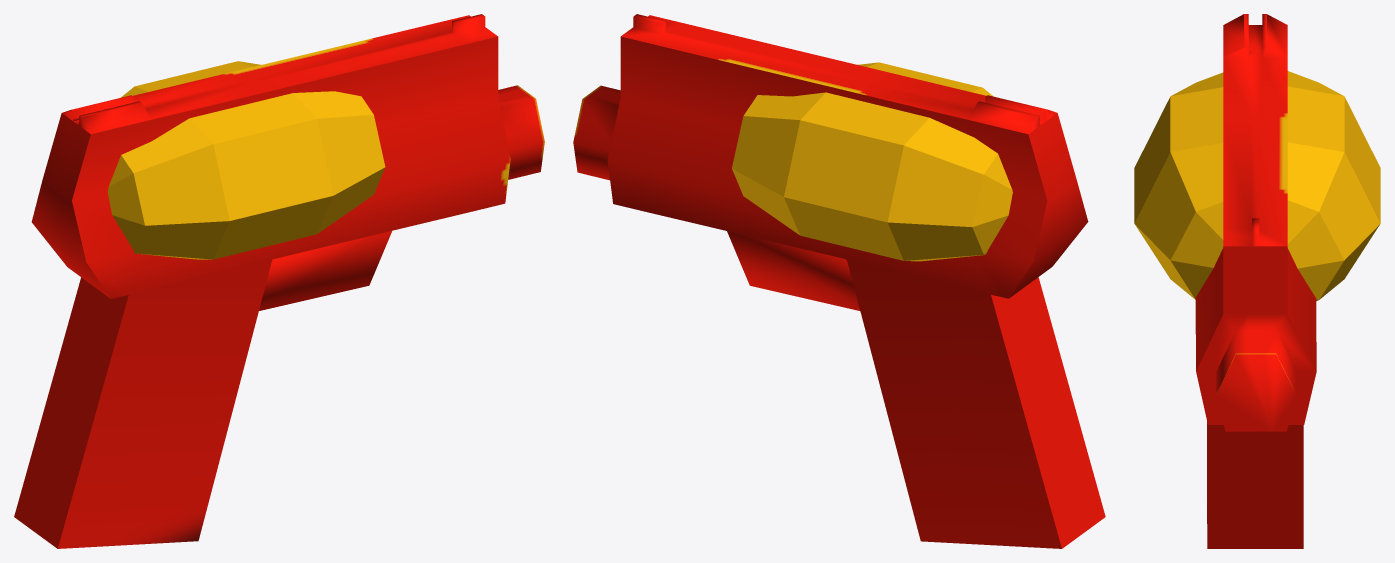
File: WaterGun.fbx
The picture shows the model from 3 angles, left to right: view 1: azimuth 30°, elevation 25°; view 2: azimuth 150°, elevation 25°; view 3: azimuth 270°, elevation 25°; orthographic projection. The views are drawn at different scales.
Parts seen in each view (by area): view 1: WaterGun; view 2: WaterGun; view 3: WaterGun.
Boxes of the visible parts, x1,y1,x2,y2 form: WaterGun: (14,14,544,548); WaterGun: (573,14,1105,548); WaterGun: (1134,14,1380,548).
Size of the model in its own units: 23.6 by 20.01 by 9.29.
Materials: 1 (1 with a texture image).
